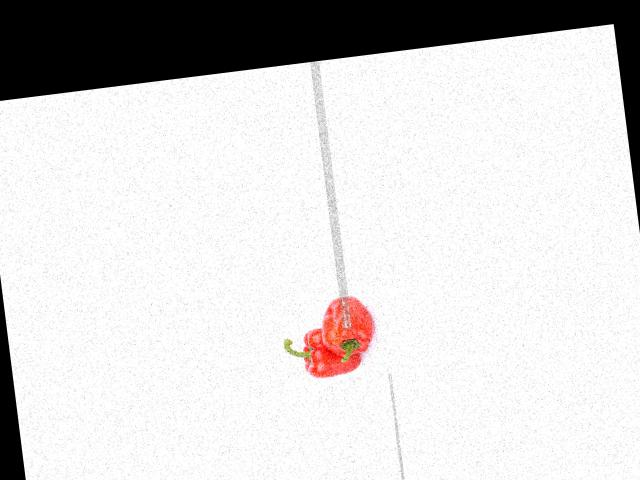bell_pepper: (312, 286, 376, 363)
